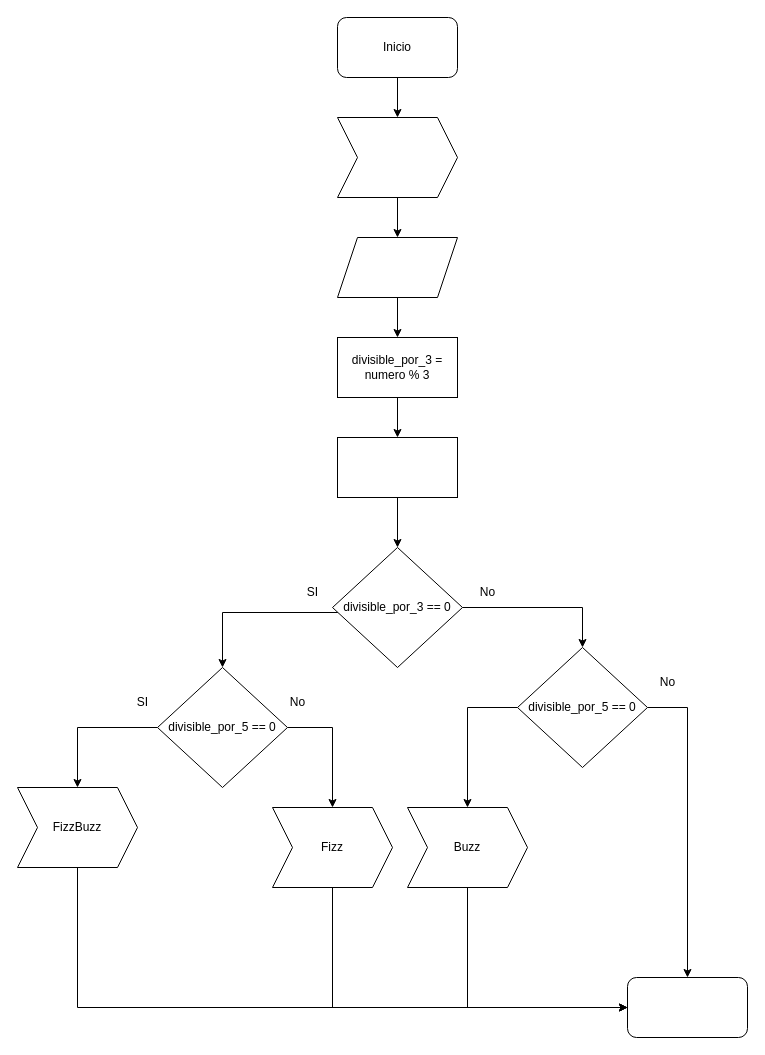
Image size: 765x1055. Some labels were removed from this diagram. The centre of each missing label's shape, as x and y in pixels:
"Ingrese un numero": [397,157]
divisible_por_5 = numero % 5: [397,467]
Fin: [687,1007]
numero: [397,267]
